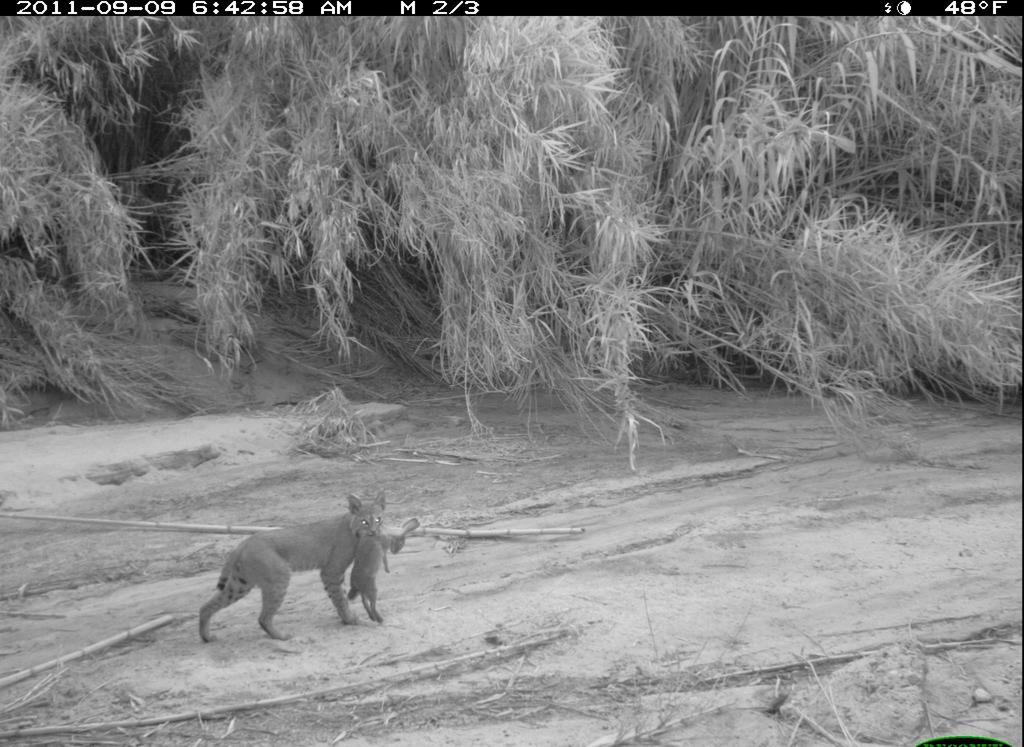rabbit: (343, 513, 422, 632)
